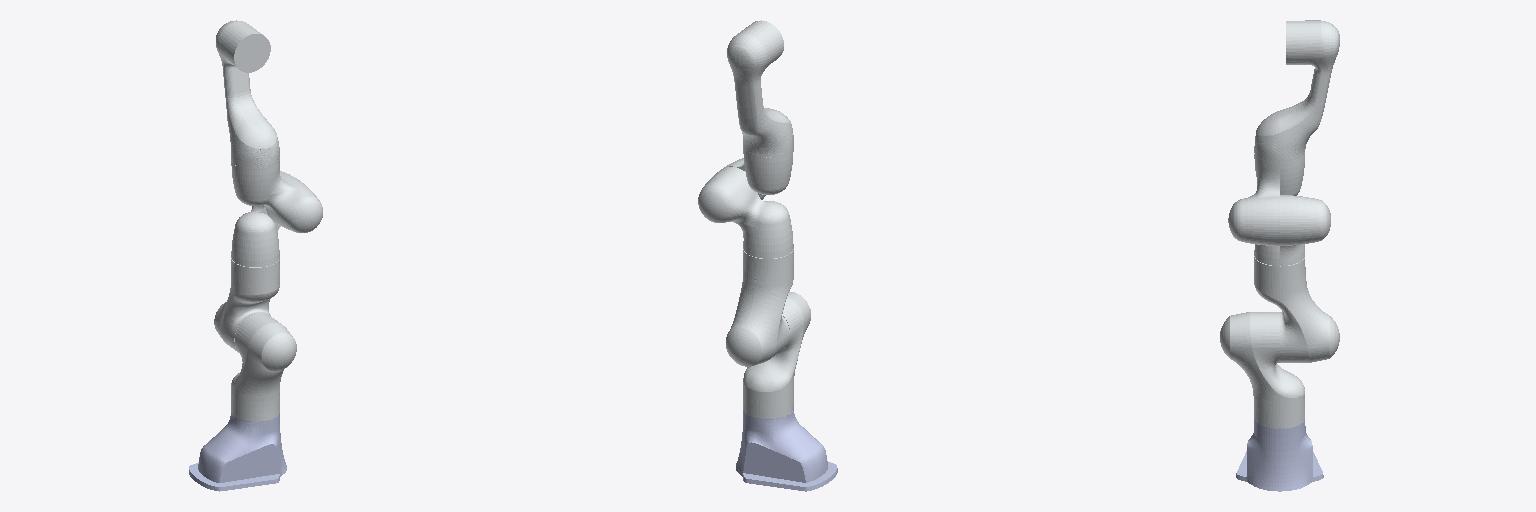
The robot description file, URDF, robot "franka_emika":
<?xml version="1.0" ?>
<!-- =================================================================================== -->
<!-- |    This document was autogenerated by xacro from ../../../franka_description/robots/franka.urdf.xacro | -->
<!-- |    EDITING THIS FILE BY HAND IS NOT RECOMMENDED                                 | -->
<!-- =================================================================================== -->
<robot name="franka_emika" xmlns:xacro="http://www.ros.org/wiki/xacro">
  <link name="link0">
    <visual>
      <origin rpy="0 0 0" xyz="0 0 0"/>
      <geometry>
        <mesh filename="package://franka_description/meshes/link0.STL"/>
      </geometry>
      <material name="">
        <color rgba="0.792156862745098 0.819607843137255 0.933333333333333 1"/>
      </material>
    </visual>
    <collision>
      <origin rpy="0 0 0" xyz="0 0 0"/>
      <geometry>
        <mesh filename="package://franka_description/meshes/link0.STL"/>
      </geometry>
    </collision>
  </link>
  <link name="link1">
    <visual>
      <origin rpy="0 0 0" xyz="0 0 0"/>
      <geometry>
        <mesh filename="package://franka_description/meshes/link1.STL"/>
      </geometry>
      <material name="">
        <color rgba="0.898039215686275 0.917647058823529 0.929411764705882 1"/>
      </material>
    </visual>
    <collision>
      <origin rpy="0 0 0" xyz="0 0 0"/>
      <geometry>
        <mesh filename="package://franka_description/meshes/link1.STL"/>
      </geometry>
    </collision>
  </link>
  <joint name="franka_emika_joint1" type="revolute">
    <safety_controller k_position="100.0" k_velocity="40.0" soft_lower_limit="-2.818745" soft_upper_limit="2.818745"/>
    <origin rpy="0 0 0" xyz="0 0 0.33299"/>
    <parent link="link0"/>
    <child link="link1"/>
    <axis xyz="0 0 1"/>
    <limit effort="87" lower="-2.9671" upper="2.9671" velocity="2.5"/>
  </joint>
  <link name="link2">
    <visual>
      <origin rpy="0 0 0" xyz="0 0 0"/>
      <geometry>
        <mesh filename="package://franka_description/meshes/link2.STL"/>
      </geometry>
      <material name="">
        <color rgba="0.898039215686275 0.917647058823529 0.929411764705882 1"/>
      </material>
    </visual>
    <collision>
      <origin rpy="0 0 0" xyz="0 0 0"/>
      <geometry>
        <mesh filename="package://franka_description/meshes/link2.STL"/>
      </geometry>
    </collision>
  </link>
  <joint name="franka_emika_joint2" type="revolute">
    <safety_controller k_position="100.0" k_velocity="40.0" soft_lower_limit="-1.74097" soft_upper_limit="1.74097"/>
    <origin rpy="-1.570796326794897 0 0" xyz="0 0 0"/>
    <parent link="link1"/>
    <child link="link2"/>
    <axis xyz="0 0 1"/>
    <limit effort="87" lower="-1.8326" upper="1.8326" velocity="2.5"/>
  </joint>
  <link name="link3">
    <visual>
      <origin rpy="0 0 0" xyz="0 0 0"/>
      <geometry>
        <mesh filename="package://franka_description/meshes/link3.STL"/>
      </geometry>
      <material name="">
        <color rgba="0.898039215686275 0.917647058823529 0.929411764705882 1"/>
      </material>
    </visual>
    <collision>
      <origin rpy="0 0 0" xyz="0 0 0"/>
      <geometry>
        <mesh filename="package://franka_description/meshes/link3.STL"/>
      </geometry>
    </collision>
  </link>
  <joint name="franka_emika_joint3" type="revolute">
    <safety_controller k_position="100.0" k_velocity="40.0" soft_lower_limit="-2.818745" soft_upper_limit="2.818745"/>
    <origin rpy="1.570796326794897 0 0" xyz="0 -0.31625 0"/>
    <parent link="link2"/>
    <child link="link3"/>
    <axis xyz="0 0 1"/>
    <limit effort="87" lower="-2.9671" upper="2.9671" velocity="2.5"/>
  </joint>
  <link name="link4">
    <visual>
      <origin rpy="0 0 0" xyz="0 0 0"/>
      <geometry>
        <mesh filename="package://franka_description/meshes/link4.STL"/>
      </geometry>
      <material name="">
        <color rgba="0.898039215686275 0.917647058823529 0.929411764705882 1"/>
      </material>
    </visual>
    <collision>
      <origin rpy="0 0 0" xyz="0 0 0"/>
      <geometry>
        <mesh filename="package://franka_description/meshes/link4.STL"/>
      </geometry>
    </collision>
  </link>
  <joint name="franka_emika_joint4" type="revolute">
    <safety_controller k_position="100.0" k_velocity="40.0" soft_lower_limit="-2.98452" soft_upper_limit="0.082935"/>
    <origin rpy="1.570796326794897 0 0" xyz="0.0825 0 0"/>
    <parent link="link3"/>
    <child link="link4"/>
    <axis xyz="0 0 1"/>
    <limit effort="87" lower="-3.1416" upper="0.0873" velocity="2.5"/>
  </joint>
  <link name="link5">
    <visual>
      <origin rpy="0 0 0" xyz="0 0 0"/>
      <geometry>
        <mesh filename="package://franka_description/meshes/link5.STL"/>
      </geometry>
      <material name="">
        <color rgba="0.898039215686275 0.917647058823529 0.929411764705882 1"/>
      </material>
    </visual>
    <collision>
      <origin rpy="0 0 0" xyz="0 0 0"/>
      <geometry>
        <mesh filename="package://franka_description/meshes/link5.STL"/>
      </geometry>
    </collision>
  </link>
  <joint name="franka_emika_joint5" type="revolute">
    <safety_controller k_position="100.0" k_velocity="40.0" soft_lower_limit="-2.818745" soft_upper_limit="2.818745"/>
    <origin rpy="-1.570796326794897 0 0" xyz="-0.0825 0.38424 0"/>
    <parent link="link4"/>
    <child link="link5"/>
    <axis xyz="0 0 1"/>
    <limit effort="12" lower="-2.9671" upper="2.9671" velocity="2.5"/>
  </joint>
  <link name="link6">
    <visual>
      <origin rpy="0 0 0" xyz="0 0 0"/>
      <geometry>
        <mesh filename="package://franka_description/meshes/link6.STL"/>
      </geometry>
      <material name="">
        <color rgba="0.776470588235294 0.756862745098039 0.737254901960784 1"/>
      </material>
    </visual>
    <collision>
      <origin rpy="0 0 0" xyz="0 0 0"/>
      <geometry>
        <mesh filename="package://franka_description/meshes/link6.STL"/>
      </geometry>
    </collision>
  </link>
  <joint name="franka_emika_joint6" type="revolute">
    <safety_controller k_position="100.0" k_velocity="40.0" soft_lower_limit="-0.082935" soft_upper_limit="3.631185"/>
    <origin rpy="1.570796326794897 0 0" xyz="0 0 0"/>
    <parent link="link5"/>
    <child link="link6"/>
    <axis xyz="0 0 1"/>
    <limit effort="12" lower="-0.0873" upper="3.8223" velocity="2.5"/>
  </joint>
  <link name="link7">
    <visual>
      <origin rpy="0 0 0" xyz="0 0 0"/>
      <geometry>
        <mesh filename="package://franka_description/meshes/link7.STL"/>
      </geometry>
      <material name="">
        <color rgba="0.898039215686275 0.917647058823529 0.929411764705882 1"/>
      </material>
    </visual>
    <collision>
      <origin rpy="0 0 0" xyz="0 0 0"/>
      <geometry>
        <mesh filename="package://franka_description/meshes/link7.STL"/>
      </geometry>
    </collision>
  </link>
  <joint name="franka_emika_joint7" type="revolute">
    <safety_controller k_position="100.0" k_velocity="40.0" soft_lower_limit="-2.818745" soft_upper_limit="2.818745"/>
    <origin rpy="1.570796326794897 0 0" xyz="0.085 0 0"/>
    <parent link="link6"/>
    <child link="link7"/>
    <axis xyz="0 0 1"/>
    <limit effort="12" lower="-2.9671" upper="2.9671" velocity="2.5"/>
  </joint>
  <link name="link8"/>
  <joint name="franka_emika_joint8" type="fixed">
    <origin rpy="0 0 0" xyz="0 0 0.1112"/>
    <parent link="link7"/>
    <child link="link8"/>
    <axis xyz="0 0 0"/>
  </joint>
</robot>

--- What the picture shows (computed from the rendered views, not written in the file) ---
Views: 3 orthographic renders of the robot side by side, from view 1: azimuth 30°, elevation 25°; view 2: azimuth 150°, elevation 25°; view 3: azimuth 270°, elevation 25°.
Model franka_emika with 9 links and 8 joints (7 revolute, 1 fixed), rooted at link0, posed every joint at zero.
Links seen in each view (by area): view 1: link5, link0, link1, link4, link2, link3; view 2: link0, link2, link5, link3, link1, link4; view 3: link5, link1, link2, link0, link4, link3.
Link boxes in pixels (bbox=[...]): link5: bbox=[216, 20, 279, 169]; link0: bbox=[189, 413, 286, 491]; link1: bbox=[231, 313, 296, 421]; link4: bbox=[231, 161, 322, 232]; link2: bbox=[214, 258, 279, 352]; link3: bbox=[231, 171, 299, 266]; link0: bbox=[736, 409, 837, 491]; link2: bbox=[726, 249, 793, 366]; link5: bbox=[727, 20, 793, 157]; link3: bbox=[698, 167, 793, 258]; link1: bbox=[743, 291, 810, 418]; link4: bbox=[724, 148, 793, 199]; link5: bbox=[1254, 20, 1339, 163]; link1: bbox=[1220, 312, 1304, 428]; link2: bbox=[1254, 256, 1339, 362]; link0: bbox=[1236, 419, 1323, 491]; link4: bbox=[1228, 153, 1304, 245]; link3: bbox=[1254, 195, 1330, 265].
Bounding box of the posed robot: 0.2915 × 0.2593 × 1.08 m (x, y, z).
Meshes: 8 distinct files referenced, 6 mesh visuals loaded (6 binary STL); not drawn: 2 (reference not matched to a file when rendering).